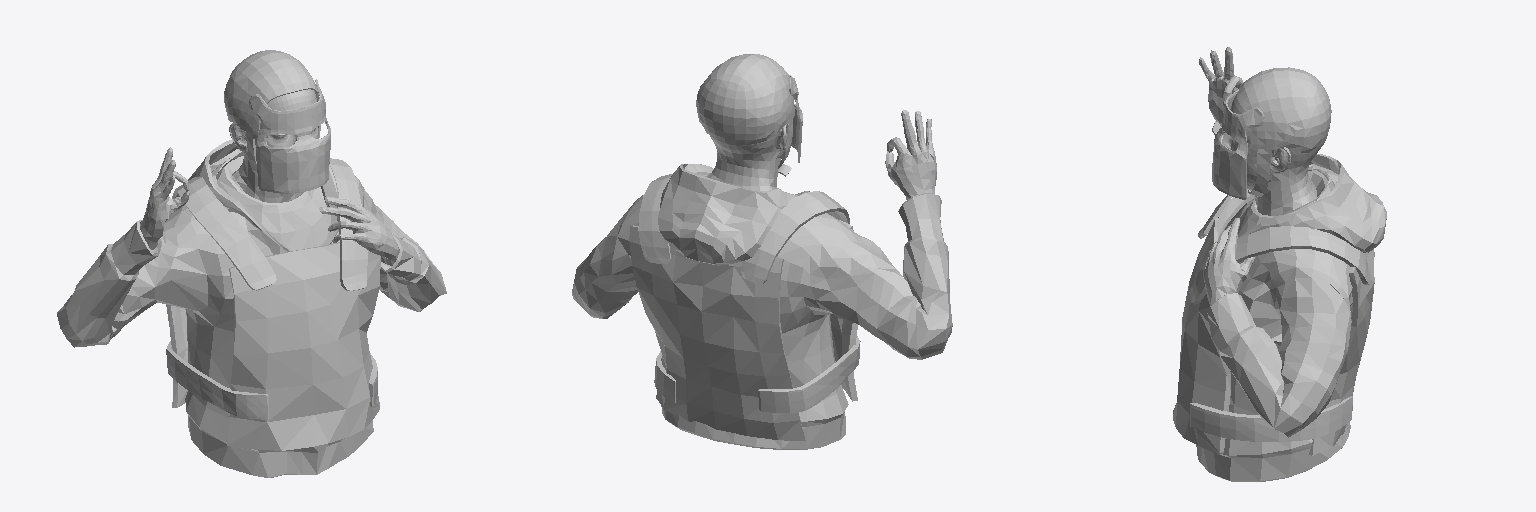
Rendered from emoji_model.obj.
The picture shows the model from 3 angles: view 1: azimuth 30°, elevation 25°; view 2: azimuth 150°, elevation 25°; view 3: azimuth 270°, elevation 25°; orthographic projection.
Parts seen in each view (by area): view 1: SMDImporter.Mesh.rustguy_Head_Untitled.005, chestplate, emoji_lp_facemask_leather; view 2: SMDImporter.Mesh.rustguy_Head_Untitled.005, chestplate, emoji_lp_facemask_leather; view 3: SMDImporter.Mesh.rustguy_Head_Untitled.005, chestplate, emoji_lp_facemask_leather.
Part boxes in pixels (left/top/right/bottom): SMDImporter.Mesh.rustguy_Head_Untitled.005: left=57, top=89, right=446, bottom=477; chestplate: left=166, top=158, right=380, bottom=450; emoji_lp_facemask_leather: left=224, top=50, right=330, bottom=193; SMDImporter.Mesh.rustguy_Head_Untitled.005: left=572, top=110, right=952, bottom=449; chestplate: left=629, top=174, right=860, bottom=440; emoji_lp_facemask_leather: left=696, top=54, right=802, bottom=176; SMDImporter.Mesh.rustguy_Head_Untitled.005: left=1196, top=47, right=1386, bottom=481; chestplate: left=1173, top=164, right=1374, bottom=455; emoji_lp_facemask_leather: left=1212, top=67, right=1331, bottom=199.
Size of the model in its own units: 6.98 by 6.9 by 3.44.